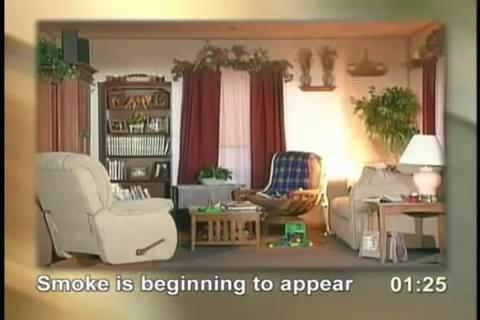fire: (293, 84, 374, 187)
